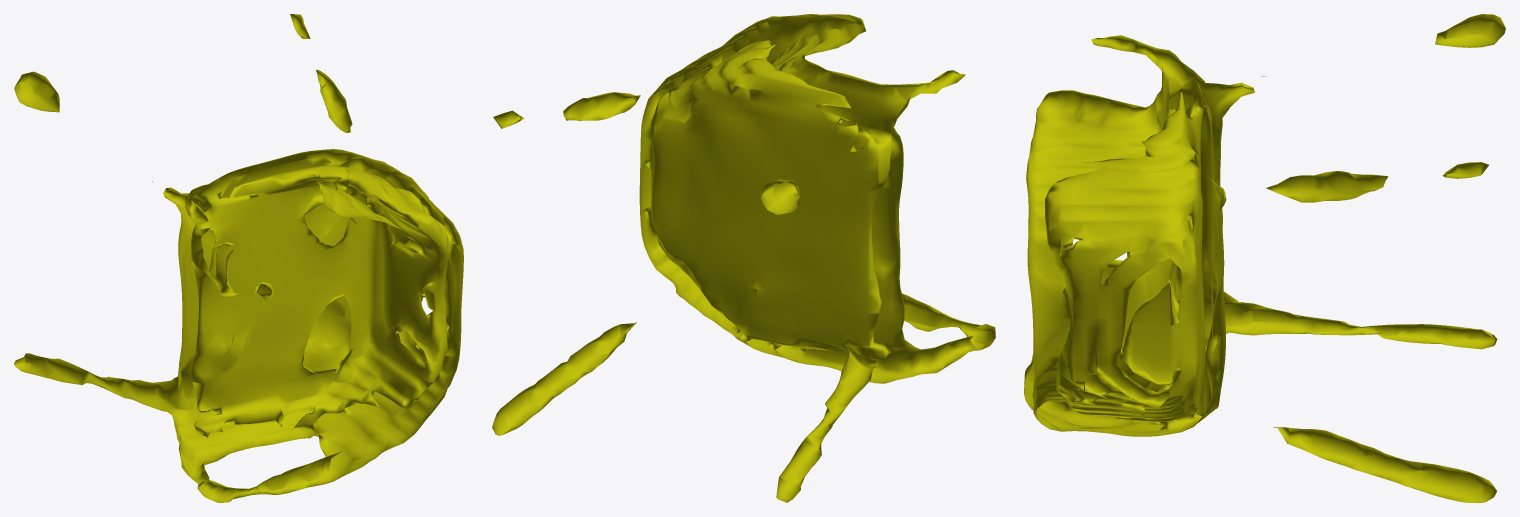
The picture shows the model from 3 angles, left to right: view 1: azimuth 30°, elevation 25°; view 2: azimuth 150°, elevation 25°; view 3: azimuth 270°, elevation 25°; orthographic projection. The views are drawn at different scales.
Parts seen in each view (by area): view 1: world; view 2: world; view 3: world.
Boxes of the visible parts, left/top/right/bottom form: world: left=14, top=14, right=463, bottom=502; world: left=492, top=14, right=995, bottom=502; world: left=1024, top=14, right=1505, bottom=502.
Size of the model in its own units: 31.2 by 31.47 by 40.12.
